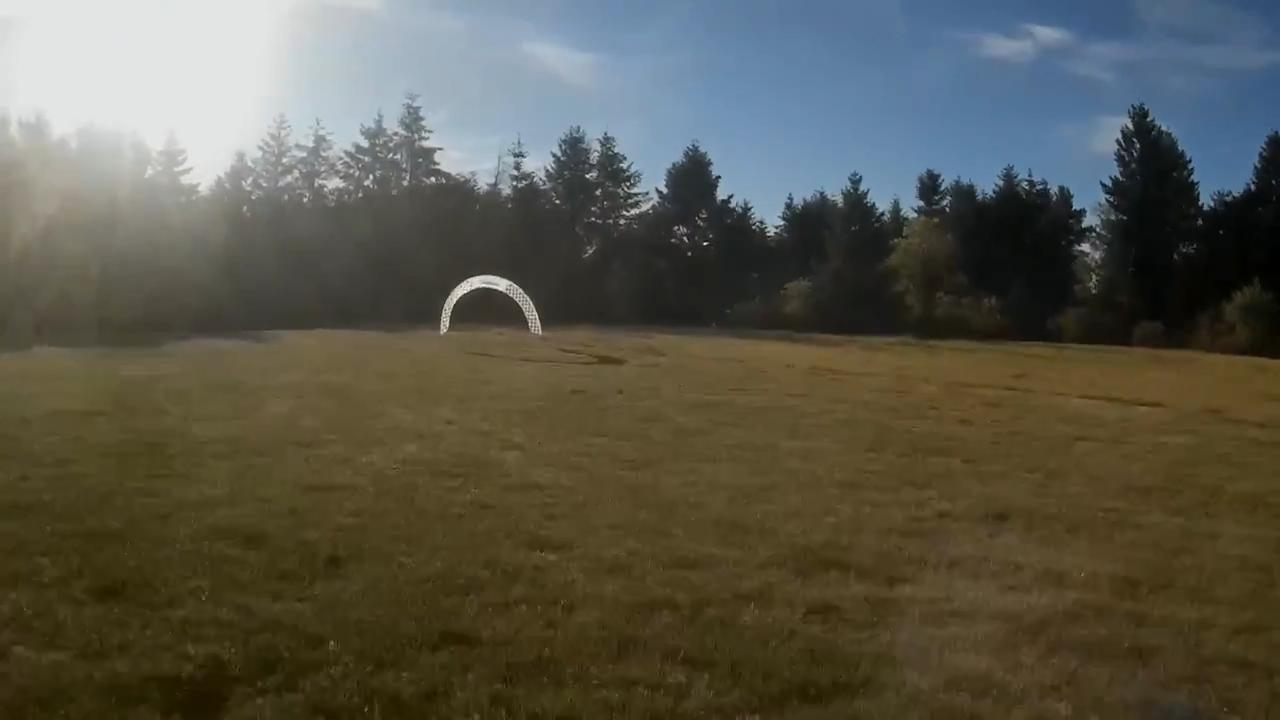gate: (438, 271, 541, 339)
